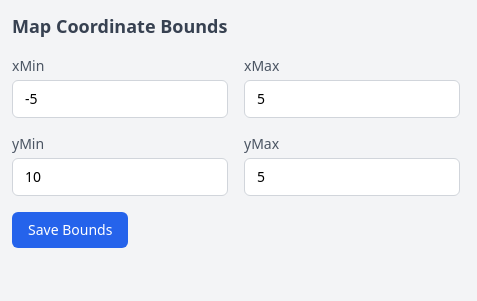
Scenario: MapConfigForm › shows error when yMin >= yMax
What coordinates should you click on to do the following:
click the button "Save Bounds"
I would click on:
 (70, 230)
Its box is [12, 212, 128, 248].
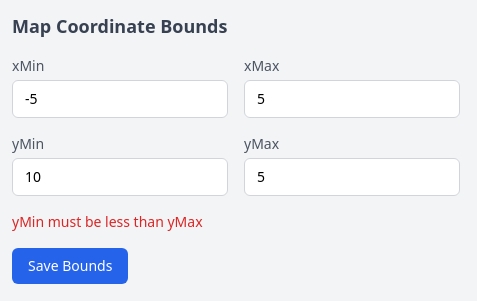
Expected: the message reads "yMin must be less than yMax", [12, 212, 202, 231]
